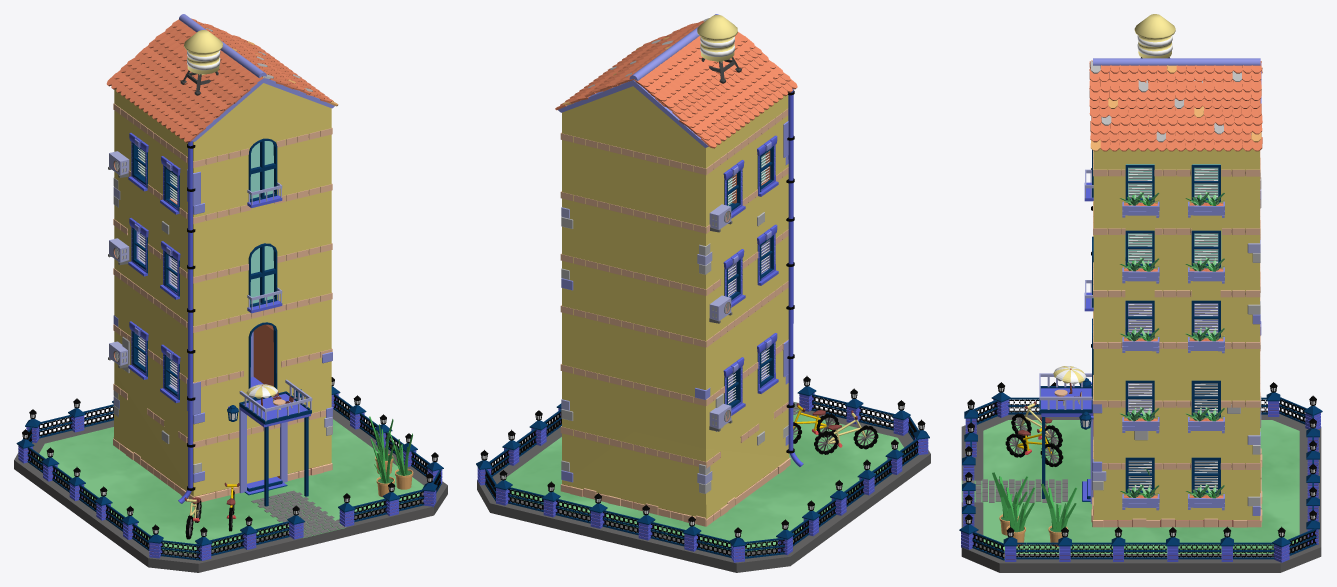
Rendered from house_lv4_4.fbx.
3 views of the same model, side by side, from view 1: azimuth 30°, elevation 25°; view 2: azimuth 150°, elevation 25°; view 3: azimuth 270°, elevation 25° (orthographic). The views are drawn at different scales.
Visible parts, largest first — view 1: house_lv4_4, housebase_lv4_4, flowerpot_4_2, flowerpot_4_1; view 2: house_lv4_4, housebase_lv4_4, housebicycle_lv4_red_4, housebicycle_lv4_yellow_4; view 3: house_lv4_4, housebase_lv4_4, housebicycle_lv4_yellow_4, flowerpot_4_3, flowerpot_4_2, housebicycle_lv4_red_4, flowerpot_4_1.
Part boxes in pixels (x1,y1,x2,y2): house_lv4_4: (106,14,338,506); housebase_lv4_4: (14,377,447,572); flowerpot_4_2: (389,431,413,489); flowerpot_4_1: (370,438,394,497); house_lv4_4: (555,14,803,526); housebase_lv4_4: (476,376,930,572); housebicycle_lv4_red_4: (814,410,878,454); housebicycle_lv4_yellow_4: (793,403,839,443); house_lv4_4: (1039,14,1262,527); housebase_lv4_4: (959,382,1322,572); housebicycle_lv4_yellow_4: (1005,424,1063,466); flowerpot_4_3: (1041,483,1076,546); flowerpot_4_2: (999,483,1034,546); housebicycle_lv4_red_4: (1011,401,1062,449); flowerpot_4_1: (992,472,1027,535).
Bounding box in the file's own units: 3484 × 4985 × 3497.
